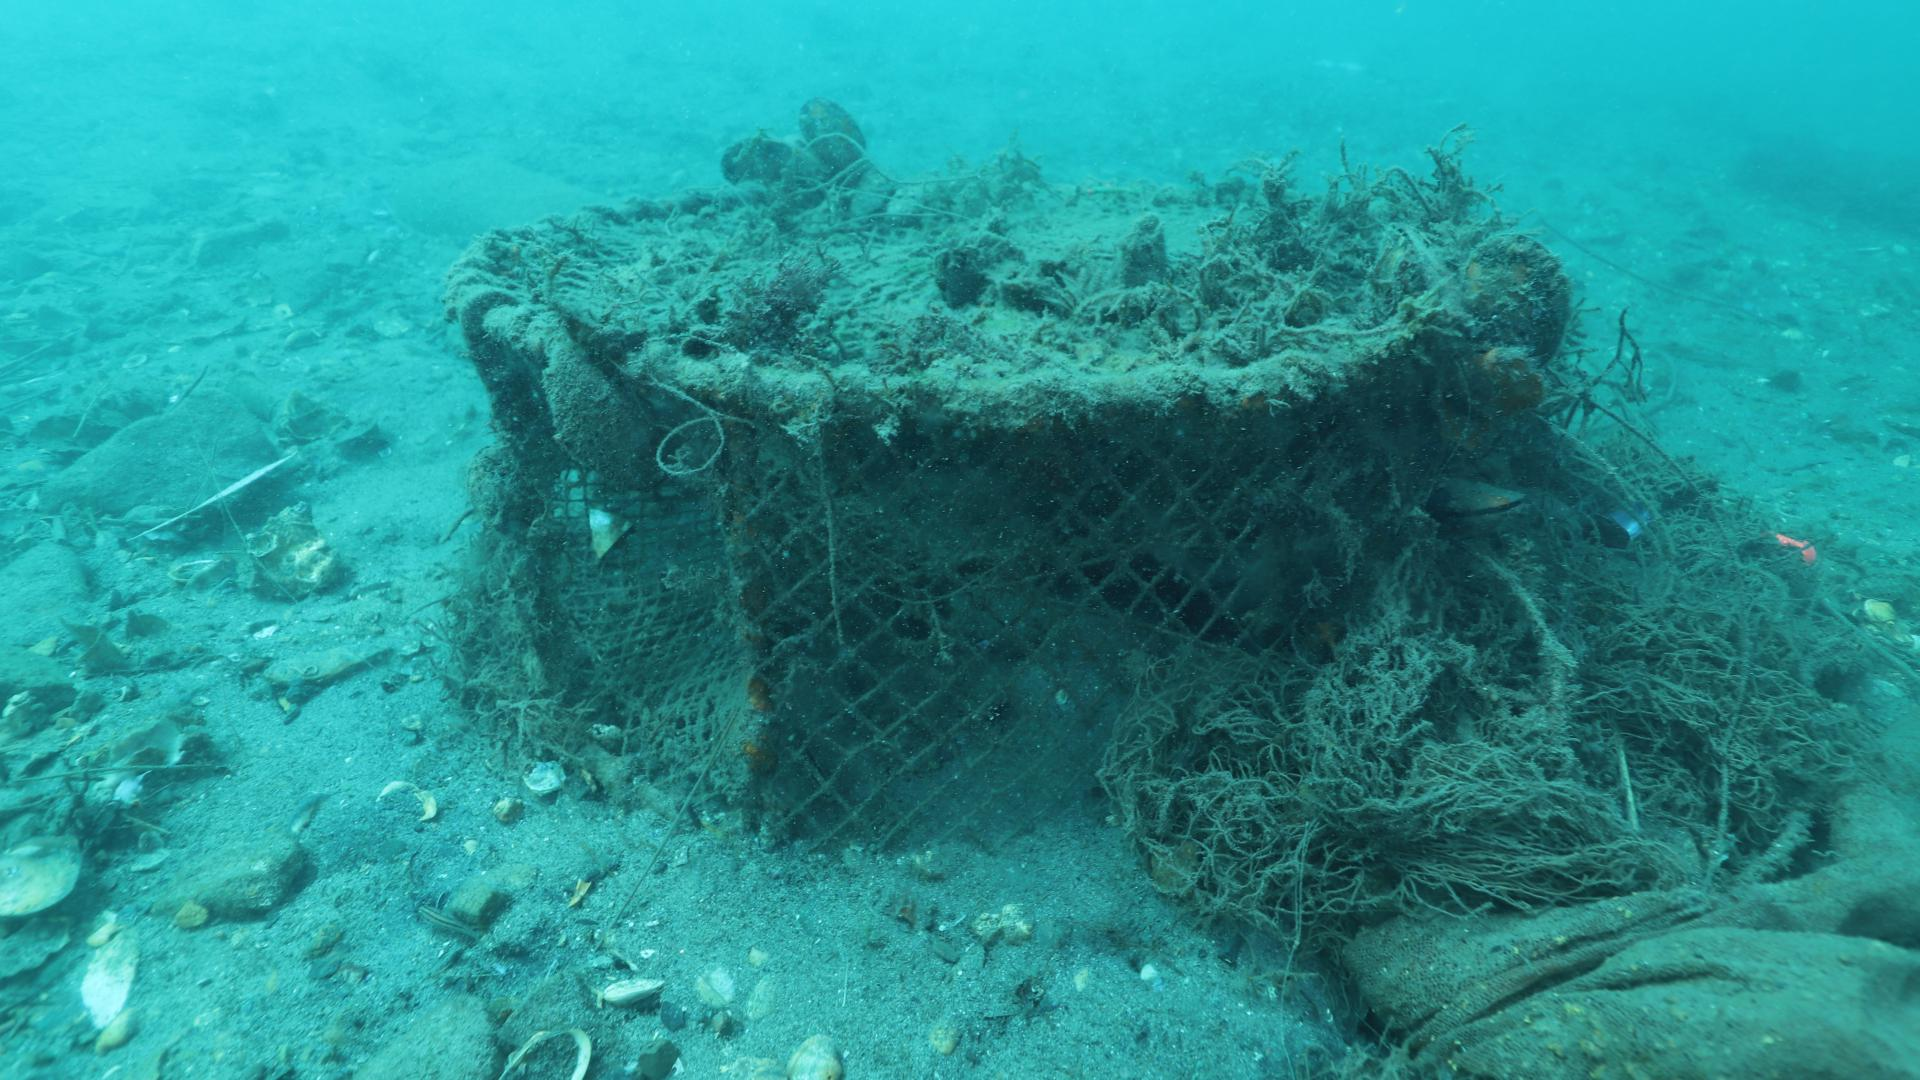circular fish trap: (438, 171, 1470, 856)
